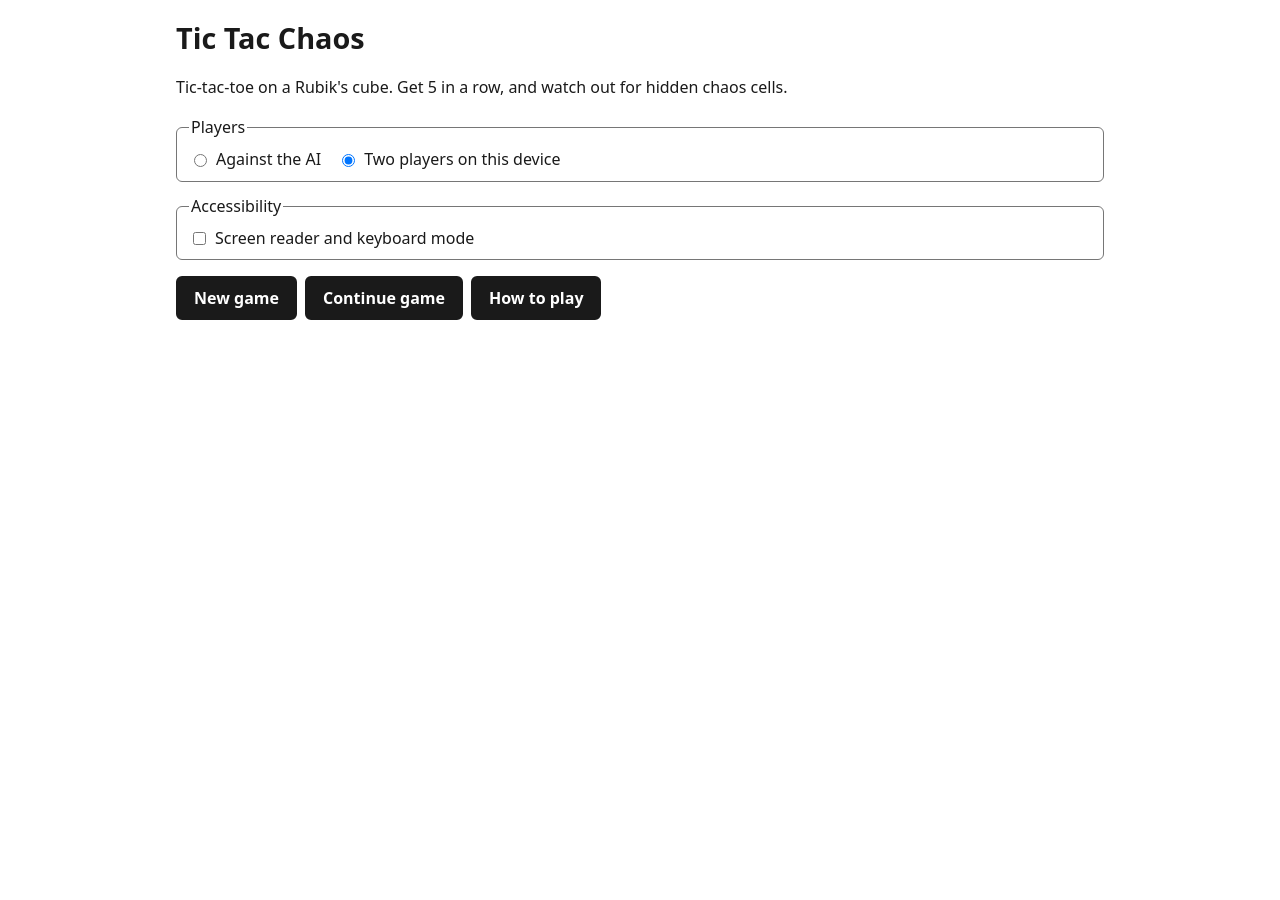
the 3D cube › unfolds to show the winning line, folds back and unfolds again on request, and resets for a new game
Click the button "Continue game" at (384,298), box [305,276,463,320]
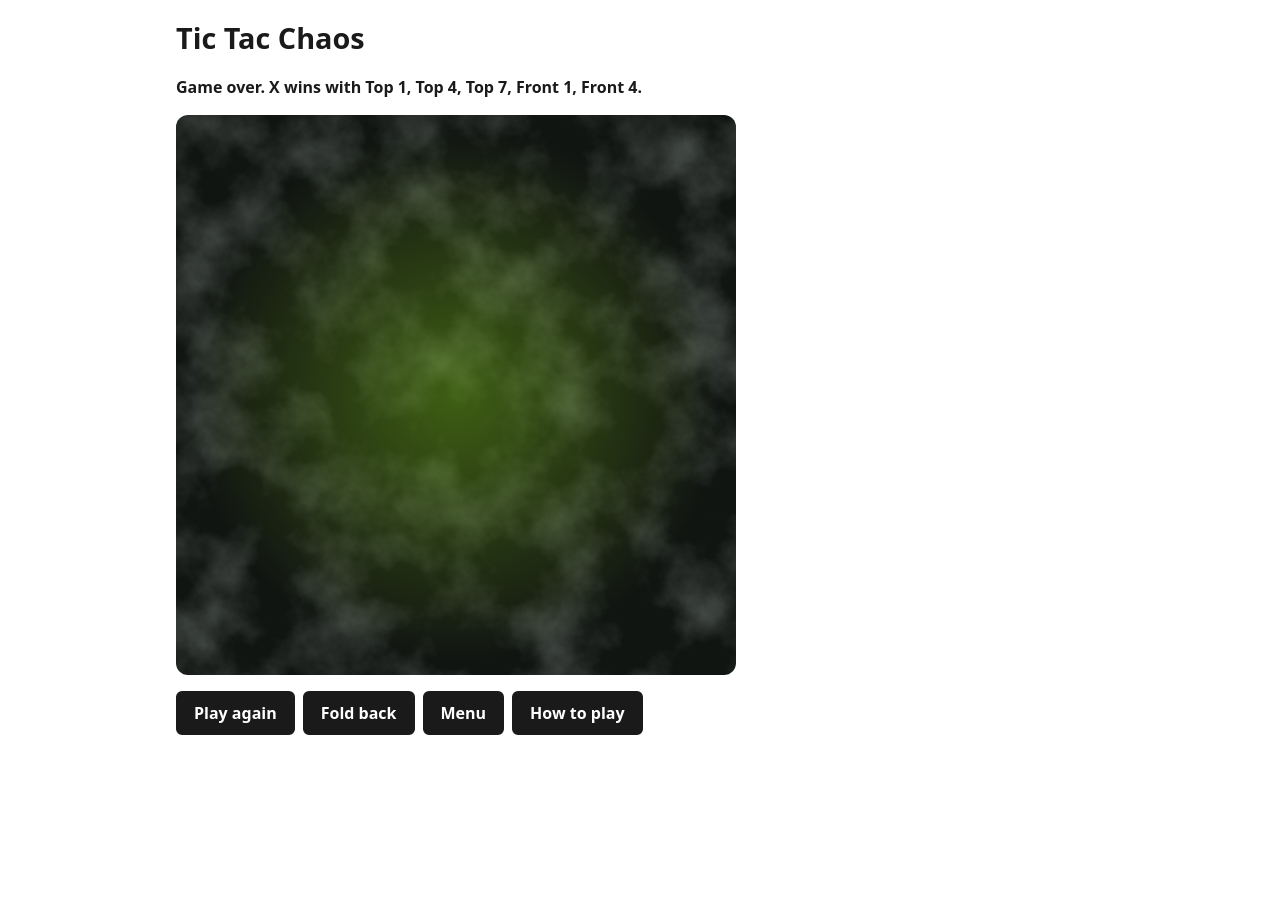
Expected: the text "Game over. X wins" is shown, [176,76,642,98]
Click the button "Fold back" at (359,713), box [303,691,414,735]
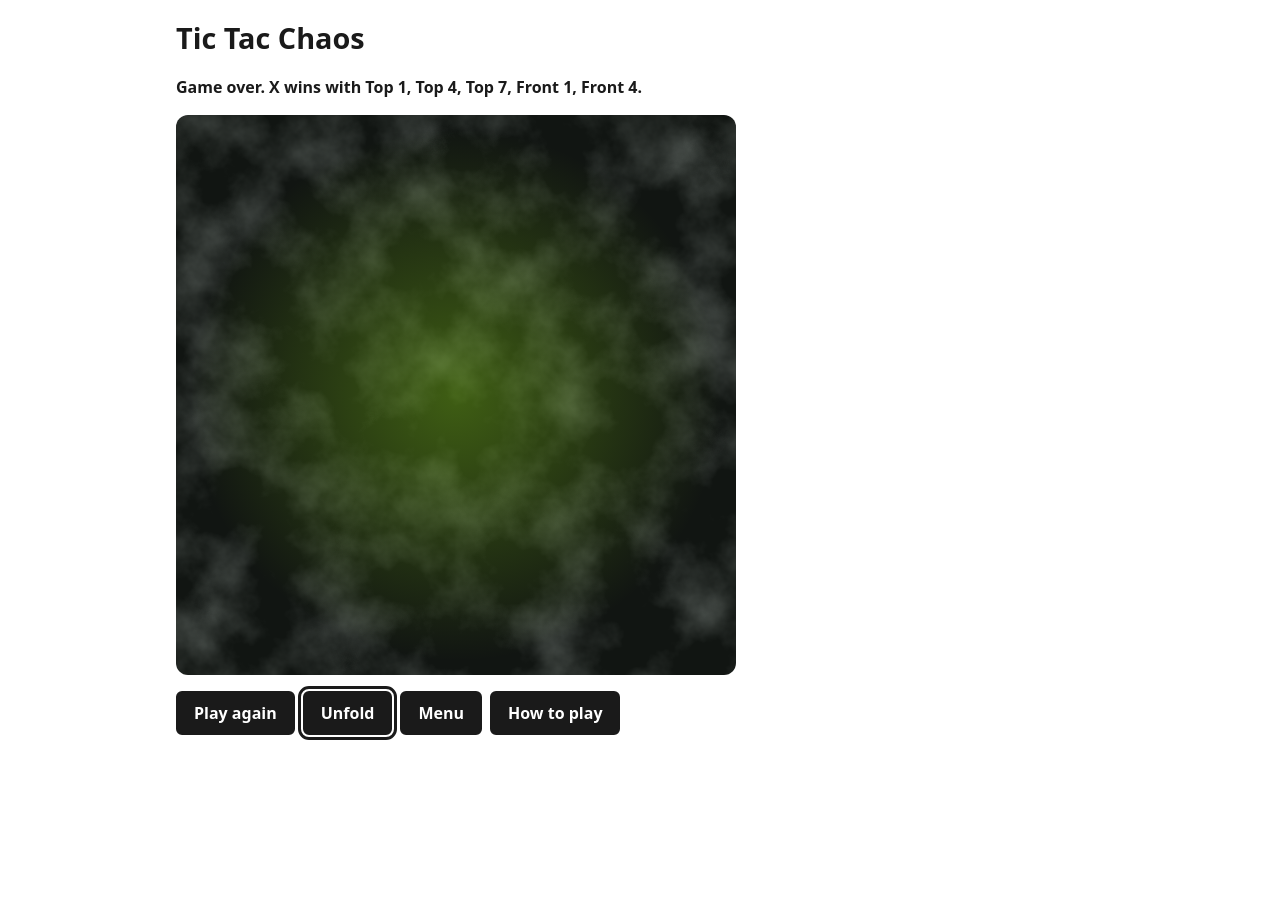
Click the button "Unfold" at (348,713), box [303,691,392,735]
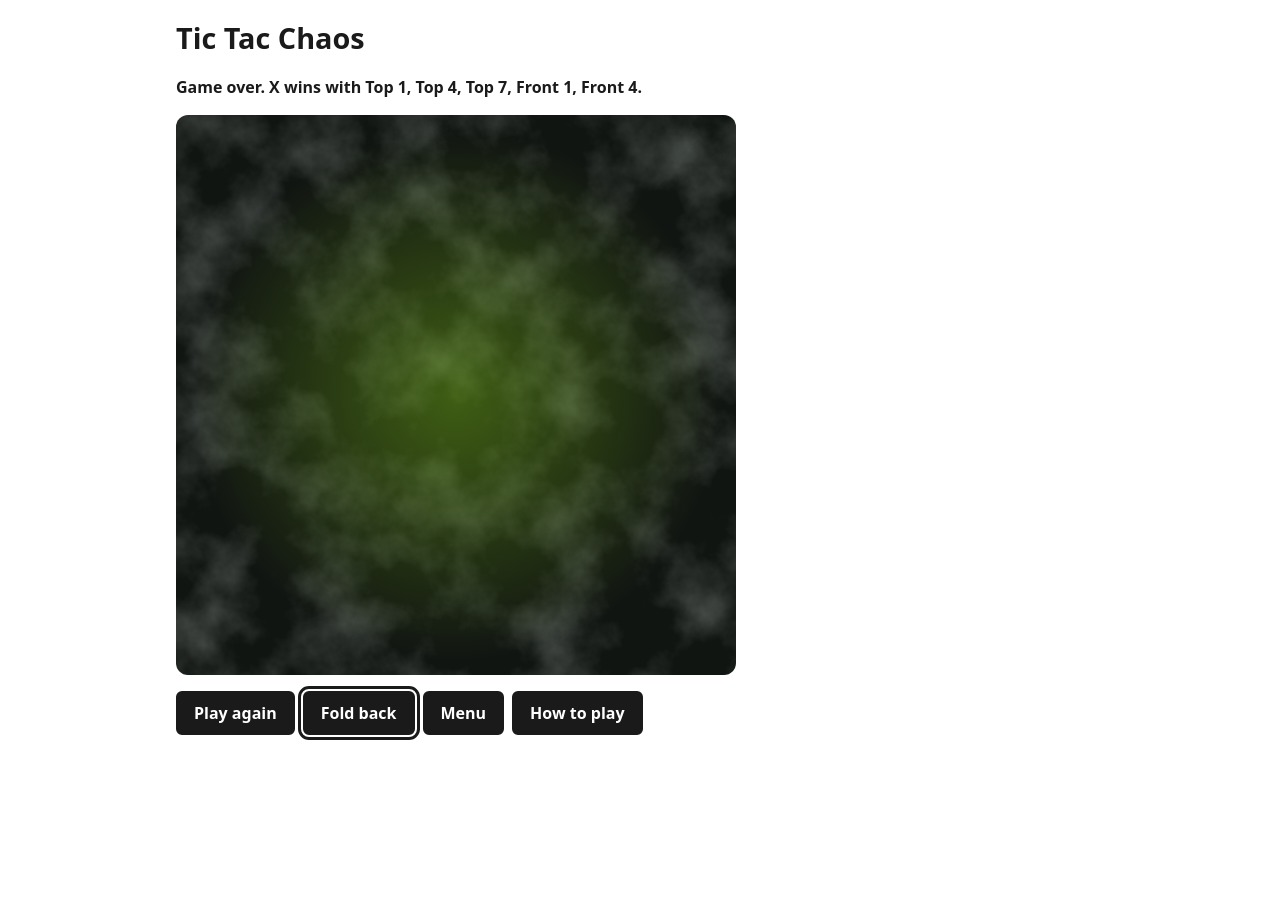
// Back from How to play: the net shows at once, with no replay.
Click the button "How to play" at (577,713), box [512,691,643,735]
(page scrolled)
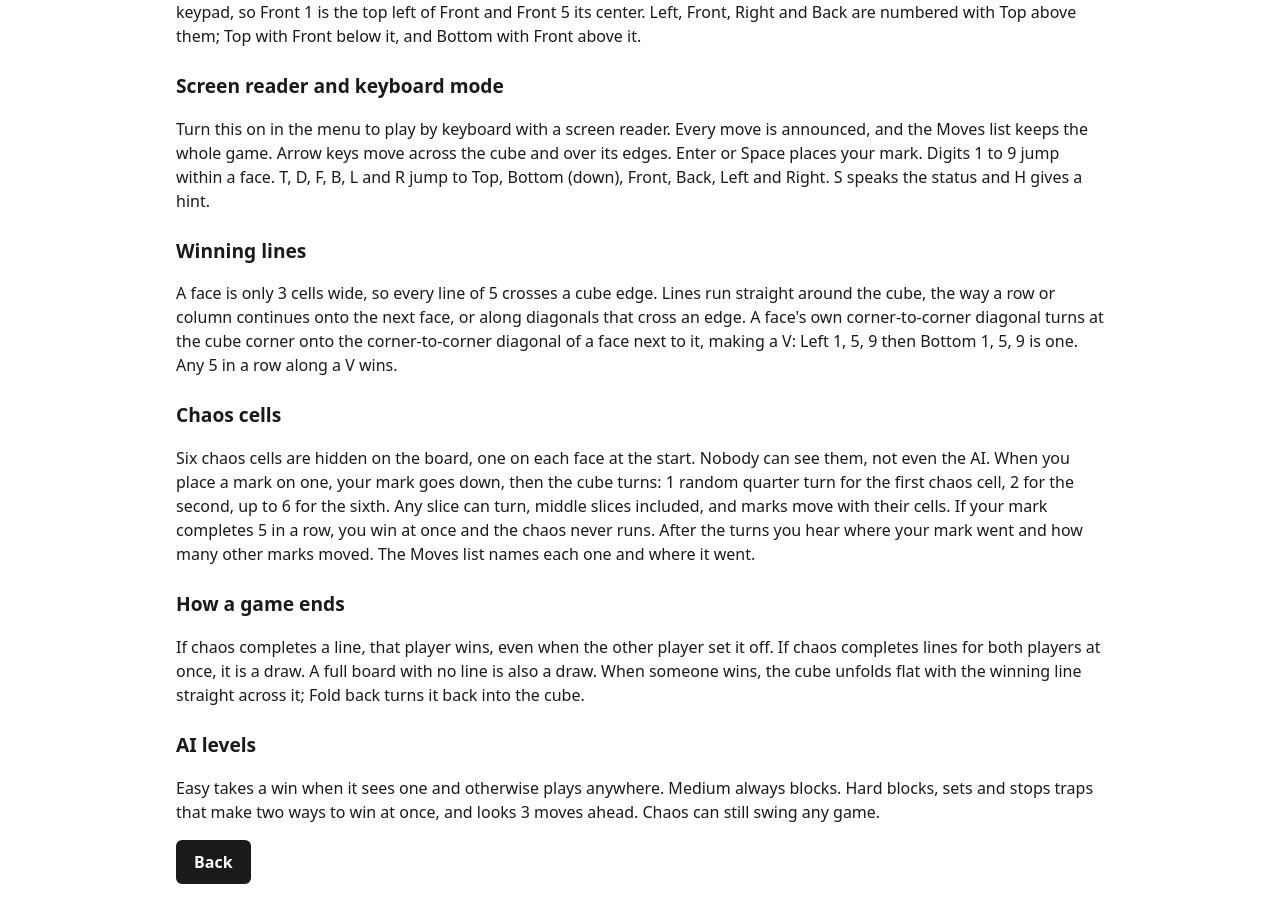
Click the button "Back" at (213,862), box [176,840,251,884]
(page scrolled)
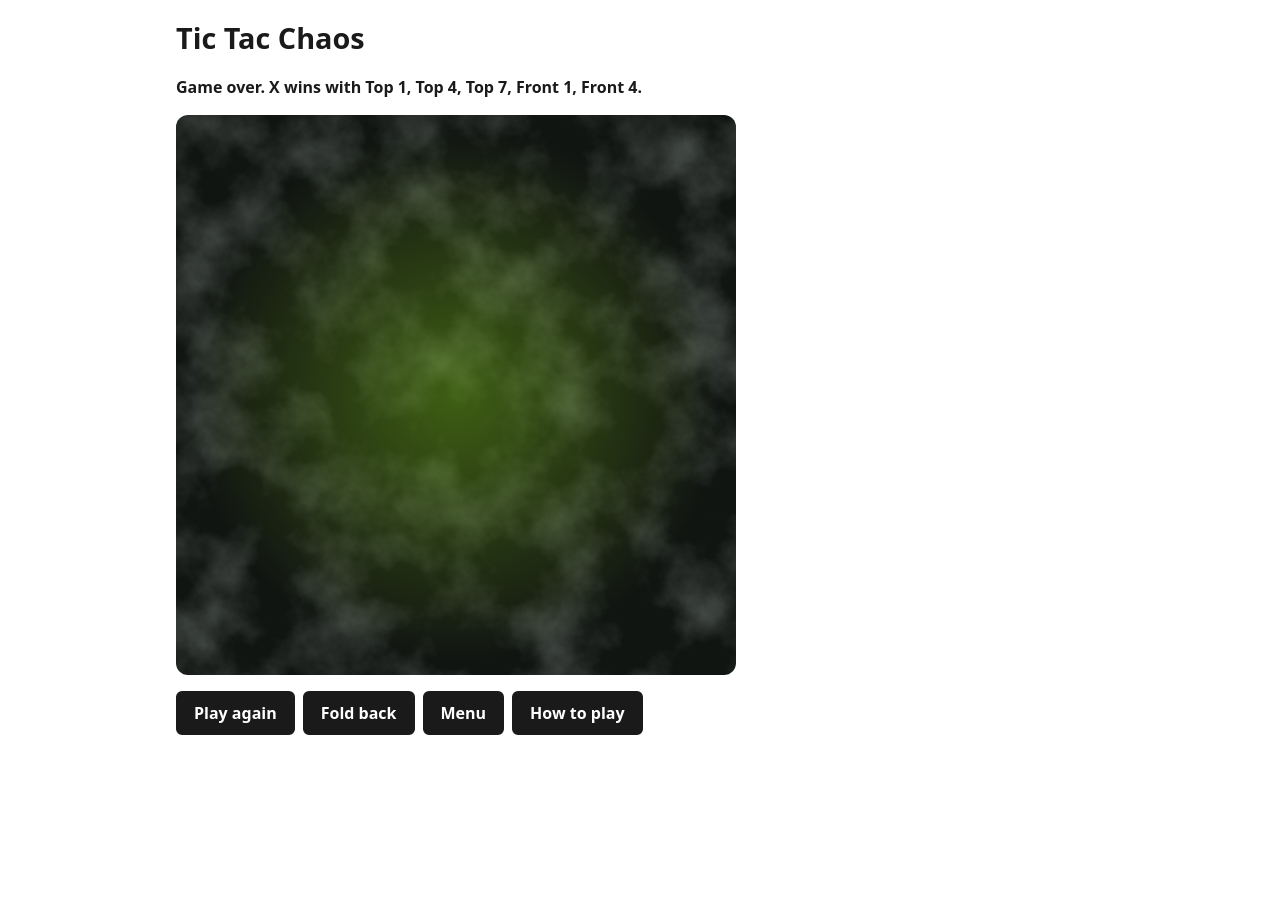
Click the button "Play again" at (235,713), box [176,691,295,735]
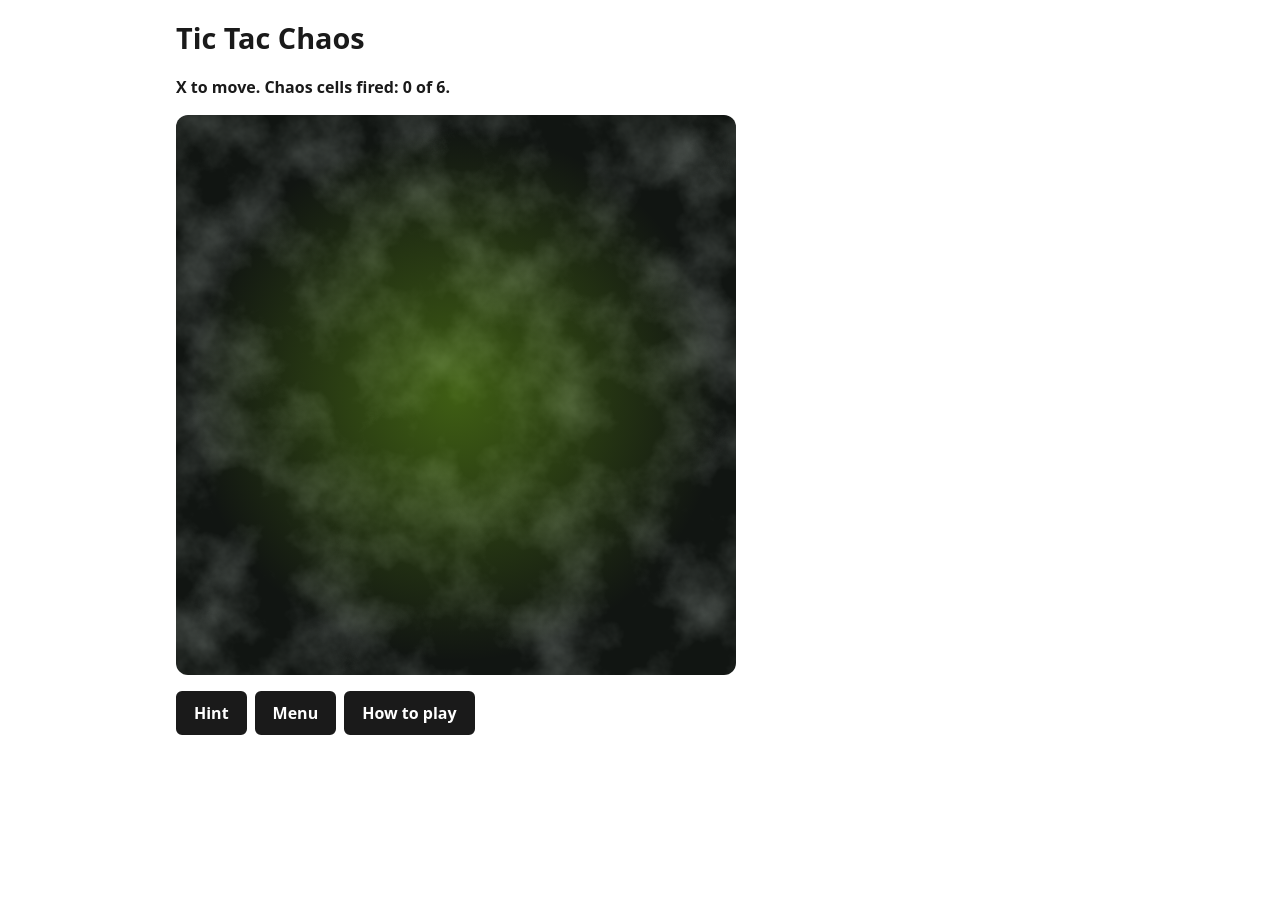
Expected: the button "Fold back" is gone
